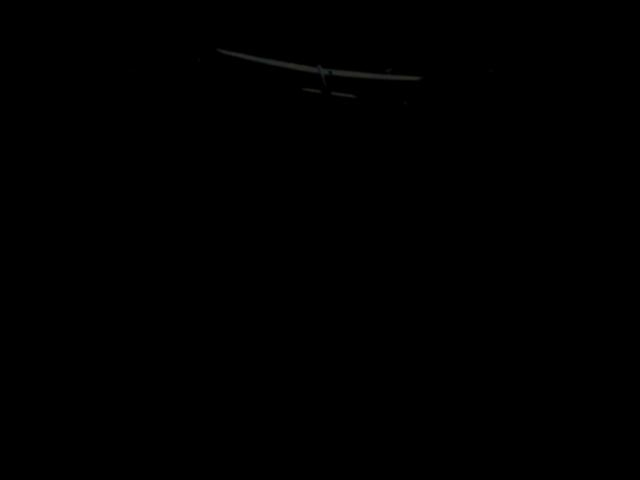iha: (214, 31, 441, 104)
